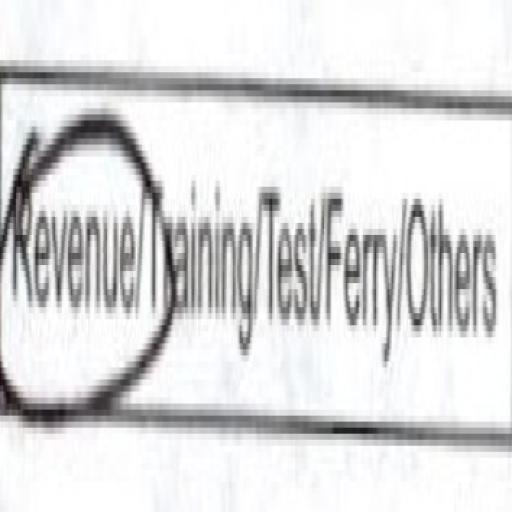check: (2, 64, 138, 472)
